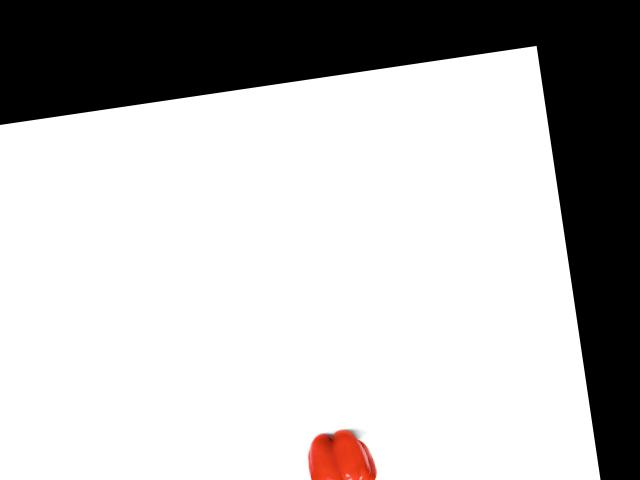bell_pepper: (302, 424, 381, 480)
